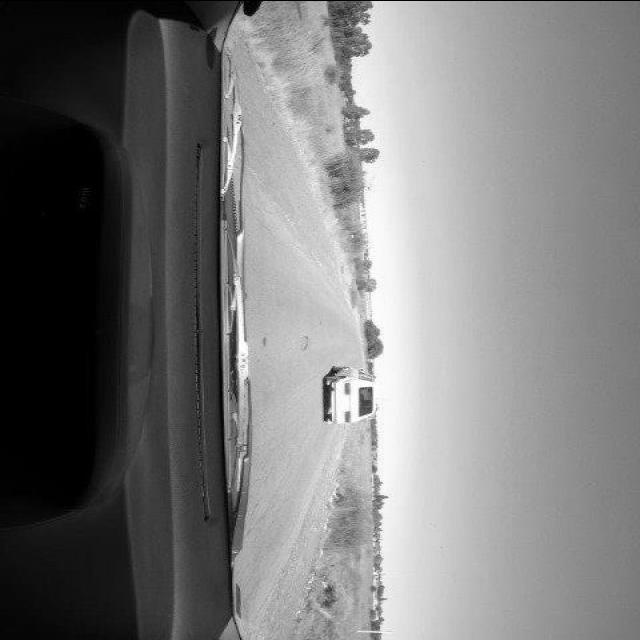lubang: (294, 332, 318, 352)
